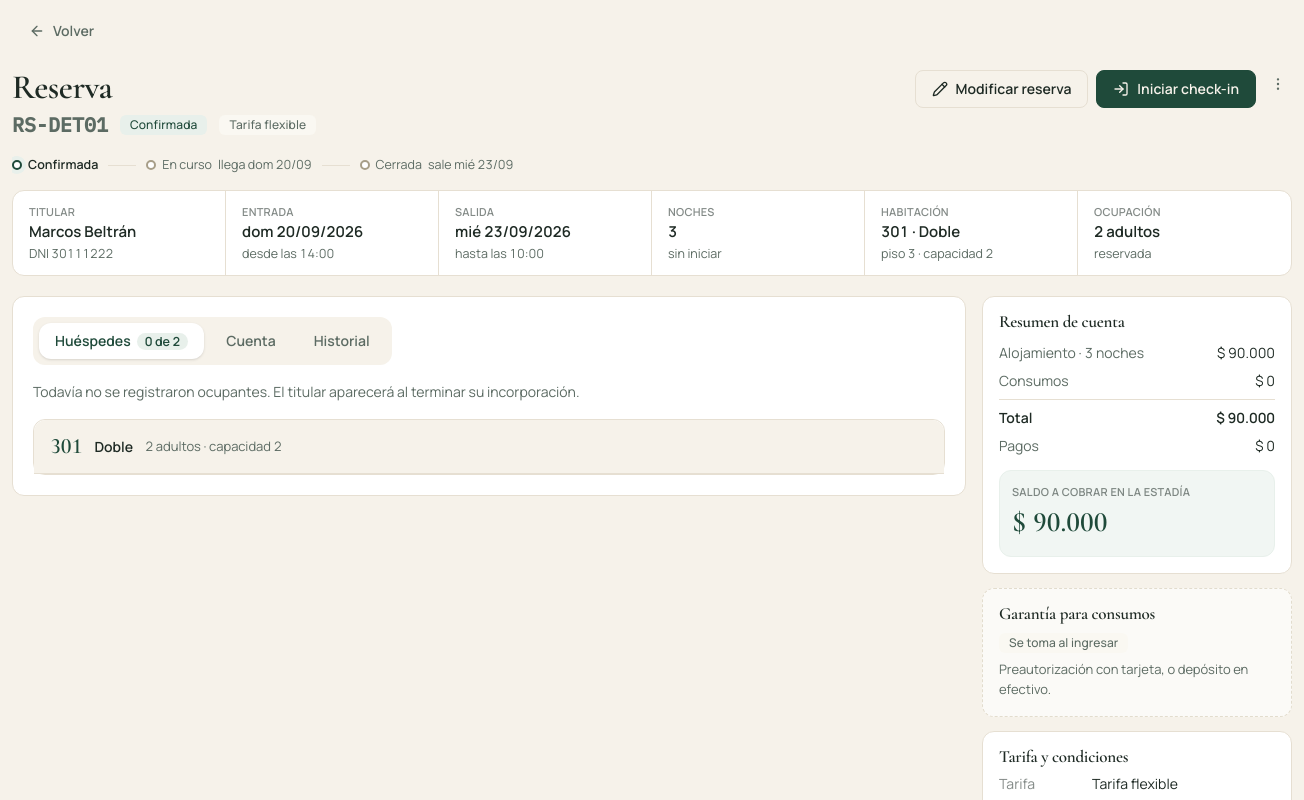
Scenario: ReservaDetallePage — acciones del encabezado según estado y rol › Confirmada (recepción): Modificar y Iniciar check-in; Cancelar reserva está en el menú ⋯
Check: the button "Iniciar check-in" is shown, box [1096, 70, 1256, 108]
Check: the button "Modificar reserva" is shown, box [915, 70, 1088, 108]
Click the button named "Más acciones de la reserva": click(1278, 84) [1264, 70, 1292, 98]
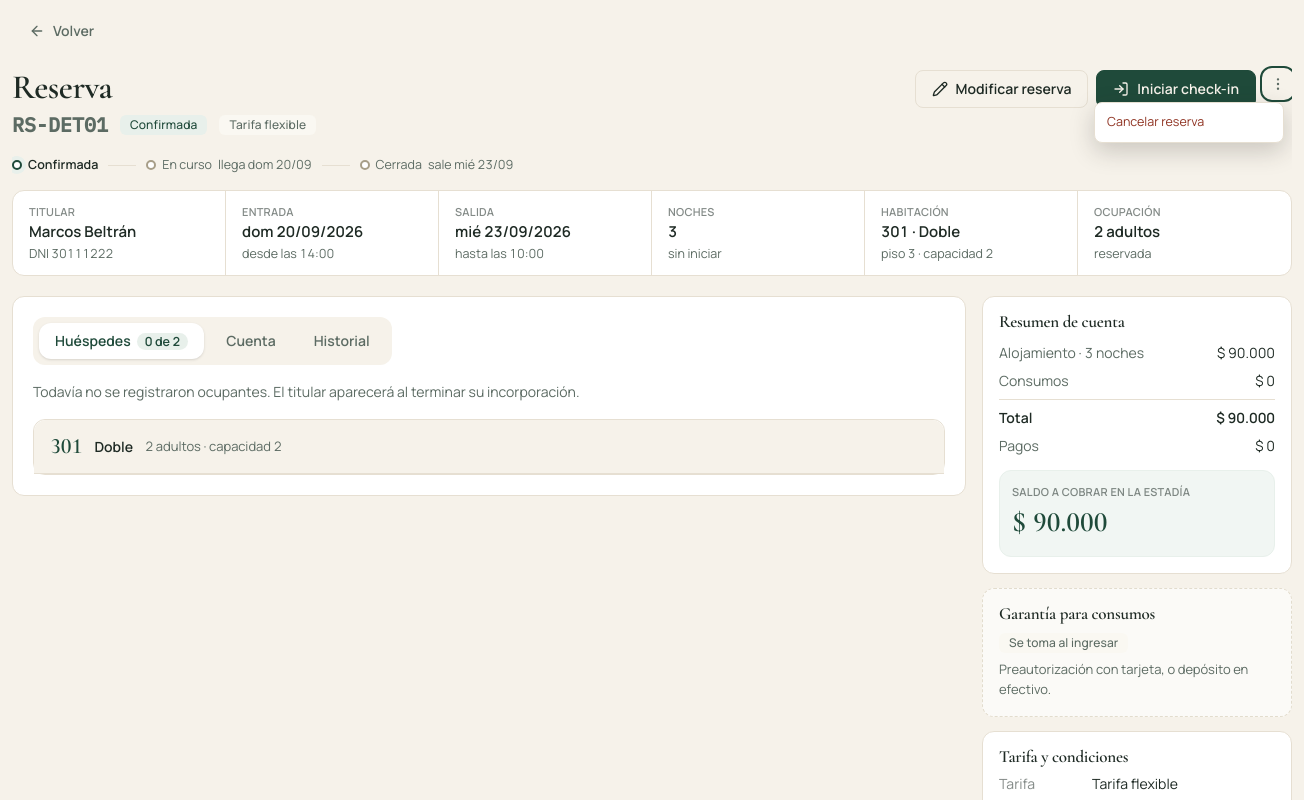
Check: the button "Cancelar reserva" is shown, box [1095, 107, 1283, 138]
